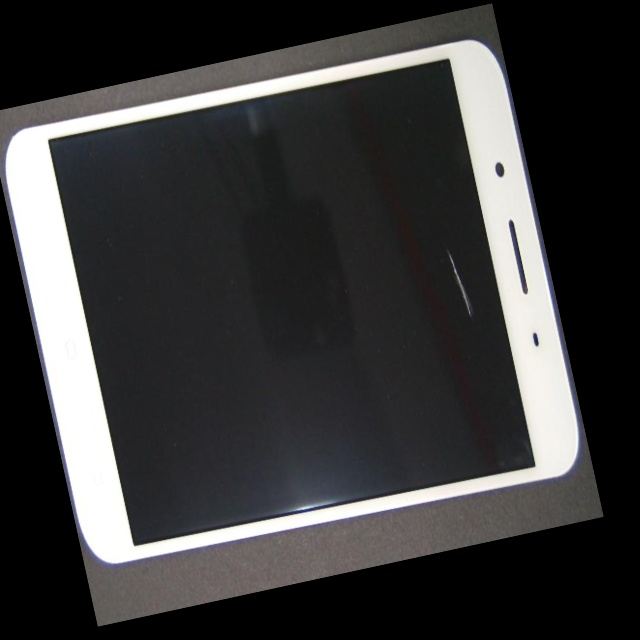scratch: (192, 67, 573, 442)
